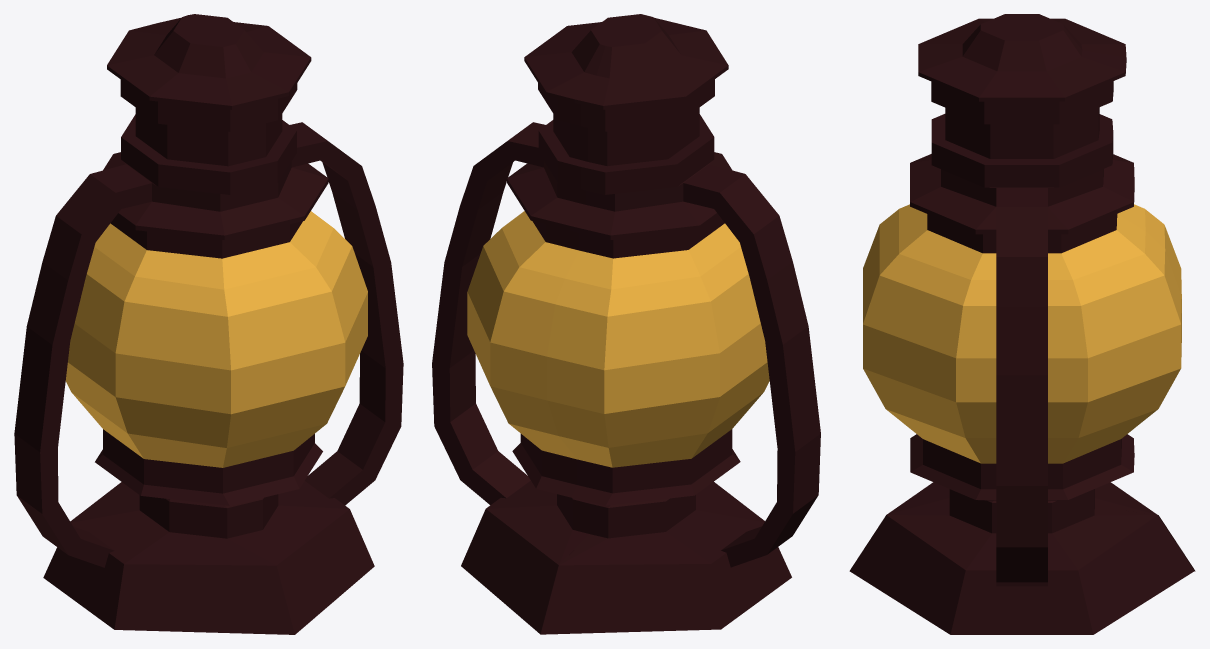
File: LightBulb.fbx
3 renders of one model, left to right at view 1: azimuth 30°, elevation 25°; view 2: azimuth 150°, elevation 25°; view 3: azimuth 270°, elevation 25°, orthographic.
Visible parts, largest first — view 1: Cylinder; view 2: Cylinder; view 3: Cylinder.
Boxes of the visible parts, <box> form: Cylinder: <box>14,14,403,634</box>; Cylinder: <box>432,14,820,634</box>; Cylinder: <box>849,14,1195,634</box>.
Size of the model in its own units: 245 by 348 by 201.
